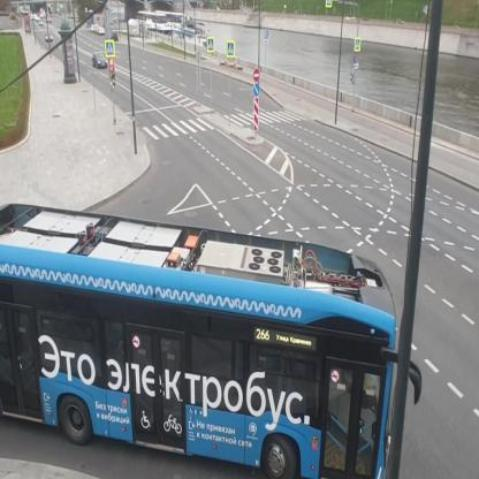bus: (1, 204, 424, 479)
